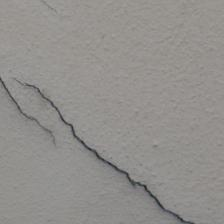Crack: (34, 0, 190, 87), (88, 23, 224, 85)
